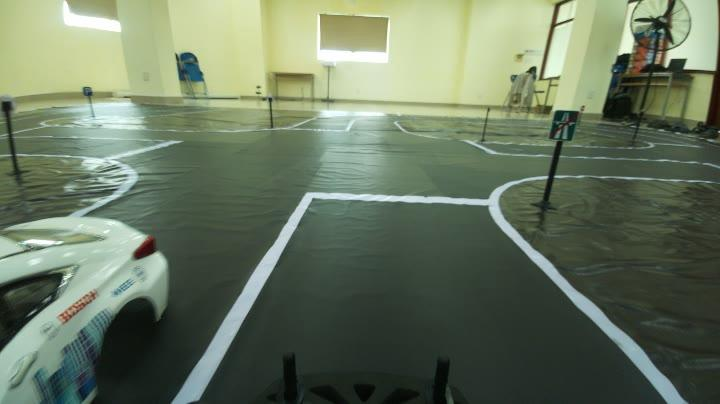car: (4, 194, 168, 404)
highway_exit: (548, 102, 585, 150)
